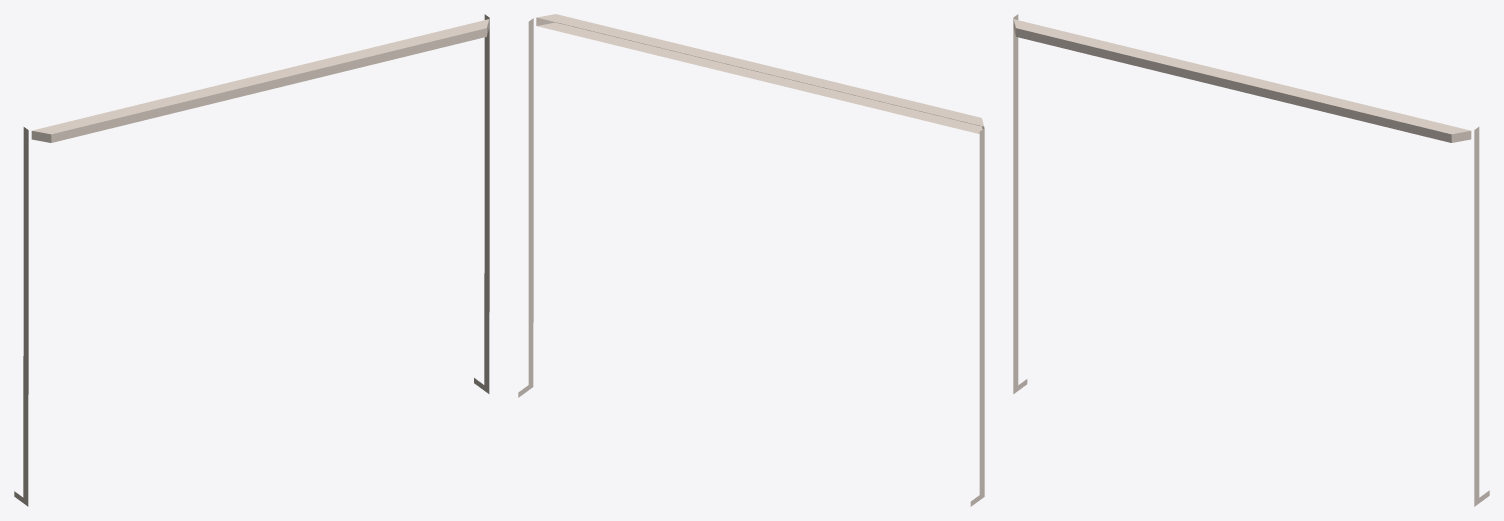
File: MeshSideTable_003_0_GeomSubset_1.obj
3 renders of one model, left to right at view 1: azimuth 30°, elevation 25°; view 2: azimuth 150°, elevation 25°; view 3: azimuth 330°, elevation 25°, orthographic. The views are drawn at different scales.
Parts seen in each view (by area): view 1: MeshSideTable_003_0_GeomSubset_1; view 2: MeshSideTable_003_0_GeomSubset_1; view 3: MeshSideTable_003_0_GeomSubset_1.
Part boxes in pixels (x1,y1,x2,y2): MeshSideTable_003_0_GeomSubset_1: (14,14,489,506); MeshSideTable_003_0_GeomSubset_1: (518,14,984,506); MeshSideTable_003_0_GeomSubset_1: (1013,14,1489,506).
Size of the model in its own units: 0.881 by 0.6882 by 0.0843.
